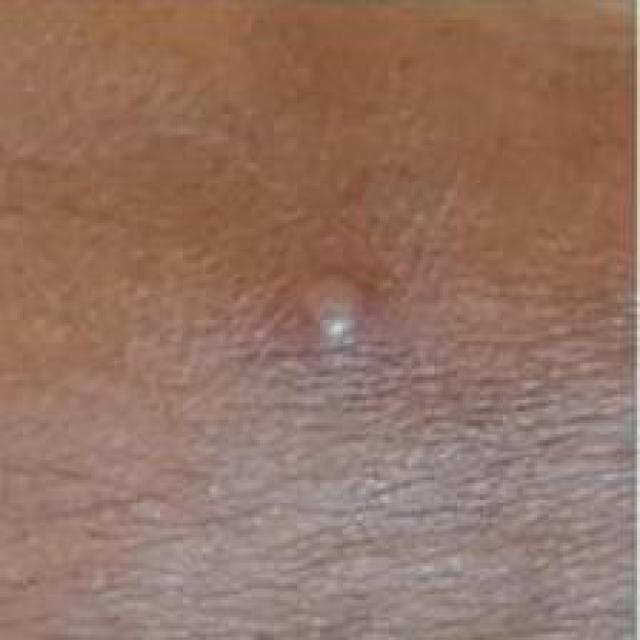monkeypox: (108, 86, 614, 640)
